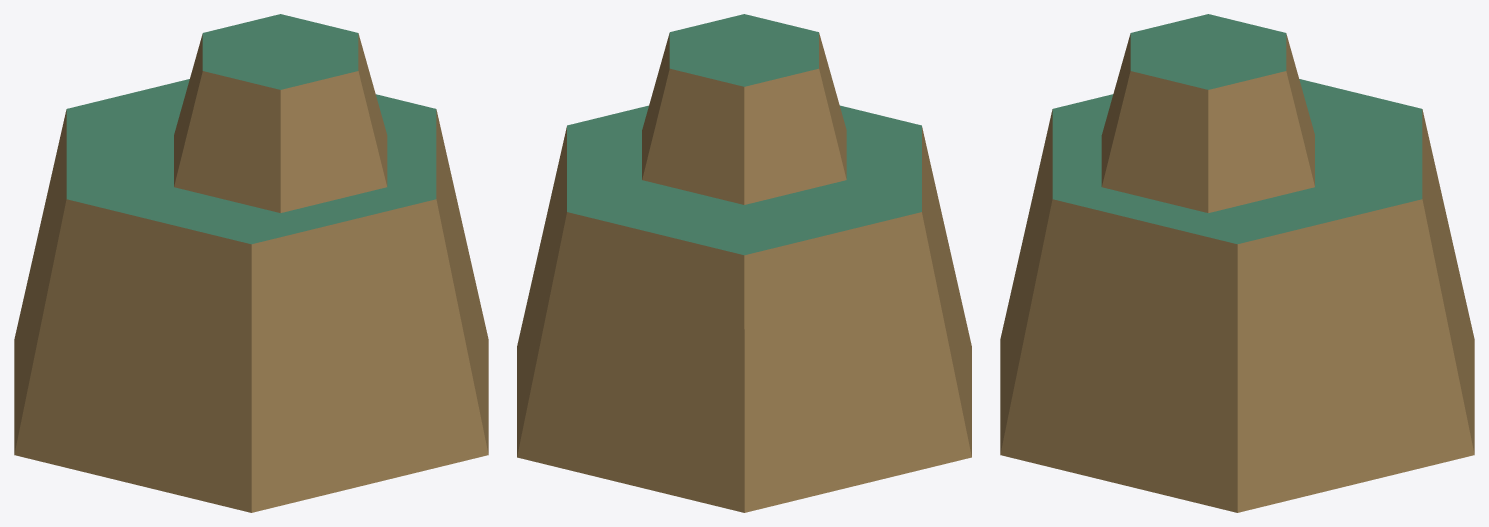
File: naturePack_018.fbx
3 views of the same model, side by side, from view 1: azimuth 30°, elevation 25°; view 2: azimuth 150°, elevation 25°; view 3: azimuth 270°, elevation 25° (orthographic). The views are drawn at different scales.
Parts seen in each view (by area): view 1: Mesh1_Group1 Model; view 2: Mesh1_Group1 Model; view 3: Mesh1_Group1 Model.
Boxes of the visible parts, x1,y1,x2,y2 form: Mesh1_Group1 Model: (14,14,488,512); Mesh1_Group1 Model: (517,14,971,512); Mesh1_Group1 Model: (1000,14,1474,512).
Size of the model in its own units: 1 by 0.71 by 0.866.
